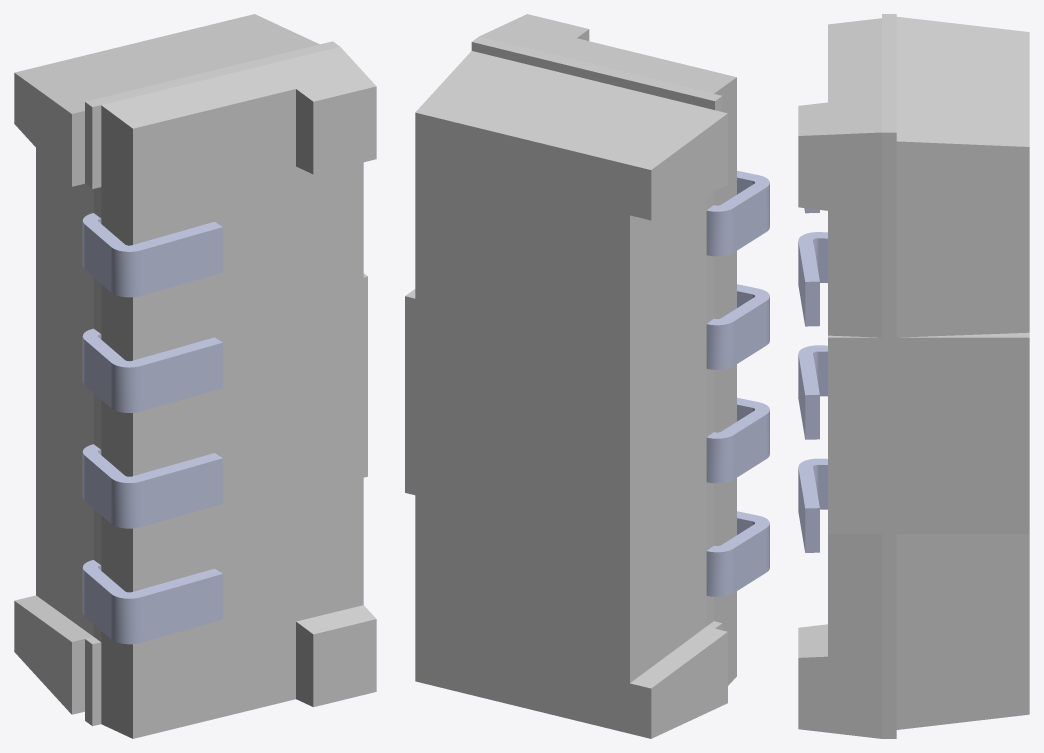
Rendered from sfe-veml7700-tt.glb.
3 renders of one model, left to right at view 1: azimuth 30°, elevation 25°; view 2: azimuth 150°, elevation 25°; view 3: azimuth 270°, elevation 25°, orthographic. The views are drawn at different scales.
Parts seen in each view (by area): view 1: 1_1_1_0.85, 0.5833333333333334_0.6666666666666666_0.8333333333333334_0; view 2: 1_1_1_0.85, 0.5833333333333334_0.6666666666666666_0.8333333333333334_0; view 3: 1_1_1_0.85, 0.5833333333333334_0.6666666666666666_0.8333333333333334_0.
Part boxes in pixels (x1,y1,x2,y2): 1_1_1_0.85: (14, 14, 376, 738); 0.5833333333333334_0.6666666666666666_0.8333333333333334_0: (82, 213, 222, 644); 1_1_1_0.85: (405, 14, 736, 738); 0.5833333333333334_0.6666666666666666_0.8333333333333334_0: (706, 170, 769, 596); 1_1_1_0.85: (798, 14, 1029, 738); 0.5833333333333334_0.6666666666666666_0.8333333333333334_0: (798, 208, 827, 552).
Size of the model in its own units: 0.3 by 0.68 by 0.235.
